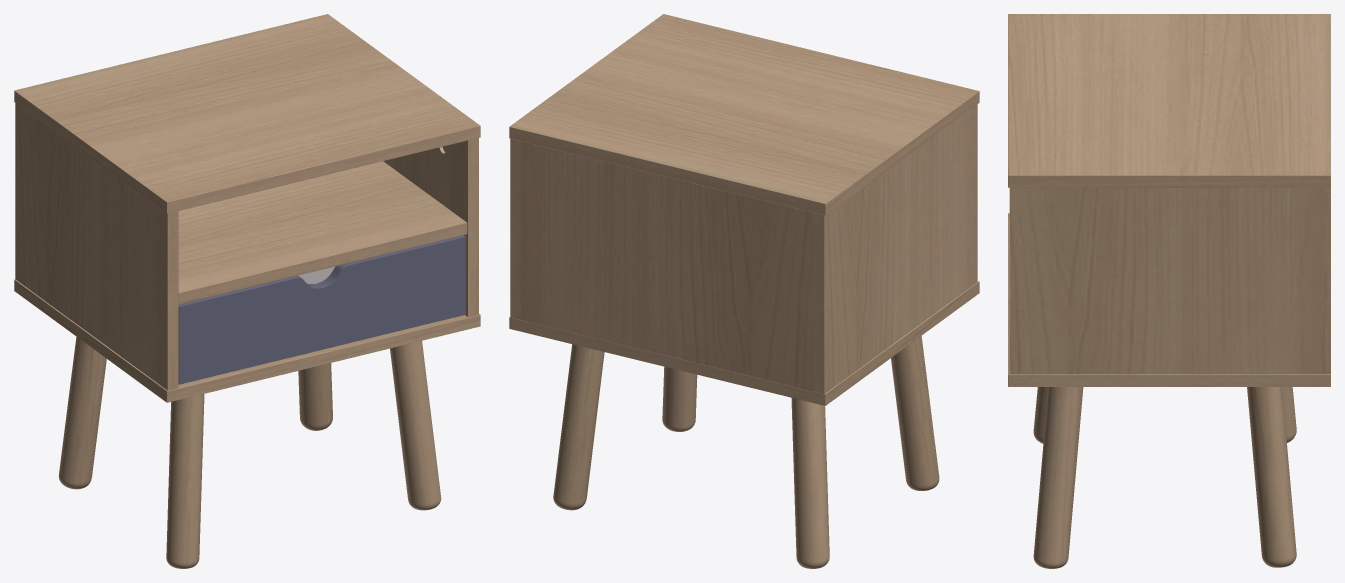
File: B07RPZSM4W.glb
3 views of the same model, side by side, from view 1: azimuth 30°, elevation 25°; view 2: azimuth 150°, elevation 25°; view 3: azimuth 270°, elevation 25° (orthographic). The views are drawn at different scales.
Visible parts, largest first — view 1: B07RPZSM4W; view 2: B07RPZSM4W; view 3: B07RPZSM4W.
Part boxes in pixels (x1,y1,x2,y2): B07RPZSM4W: [14, 14, 480, 568]; B07RPZSM4W: [509, 14, 979, 568]; B07RPZSM4W: [1008, 14, 1330, 568].
Size of the model in its own units: 0.45 by 0.53 by 0.38.
1 material, 1 textured.
